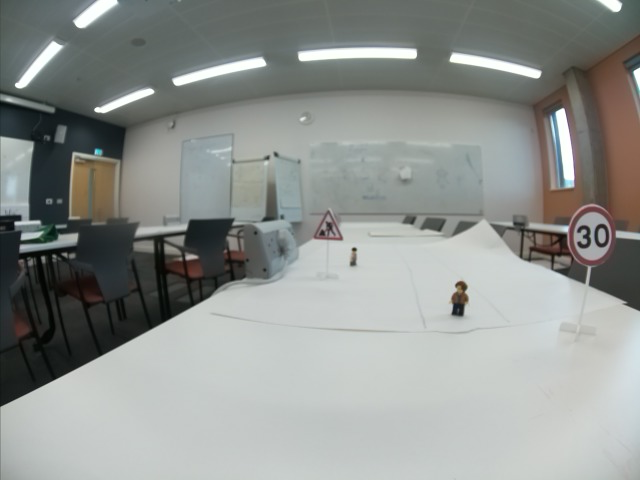30mph: (566, 206, 617, 265)
Lego Man: (449, 279, 471, 318), (348, 246, 360, 268)
Roadworks: (312, 210, 345, 241)
